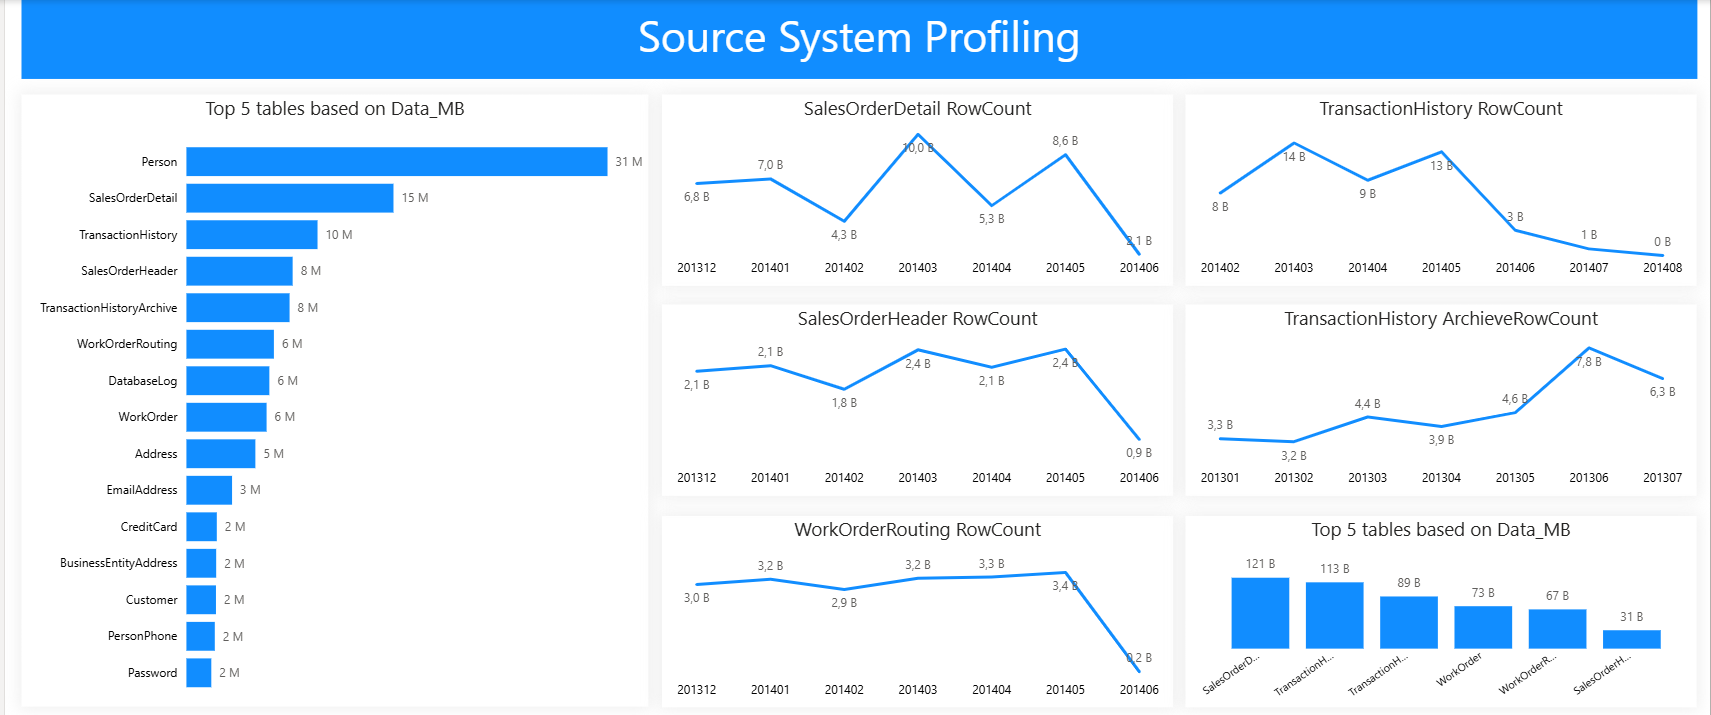

What the dashboard file says about the page in this screenshot:
{"tool":"powerbi","page":{"name":"Source System Profiling","canvas":[1700,720],"ordinal":0},"visuals":[{"type":"barChart","title":"Top 5 tables based on Data_MB","fields":{"Category":["DataMb.TableName"],"Y":["Sum(DataMb.Data_MB)"]},"box":[16.8,94.4,624.9,610.2],"z":0},{"type":"lineChart","title":"SalesOrderDetail RowCount","fields":{"Y":["RowCountGrowth.Total Row Count"],"Category":["RowCountGrowth.YearMonth"]},"box":[654.3,94.4,509.6,190.8],"z":1000},{"type":"textbox","box":[17,0,1669.7,78.6],"z":1001},{"type":"lineChart","title":"TransactionHistory RowCount","fields":{"Category":["RowCountGrowth.YearMonth"],"Y":["Sum(RowCountGrowth.Row_Count)"]},"box":[1176.5,94.4,509.6,190.8],"z":1002},{"type":"lineChart","title":"WorkOrderRouting RowCount","fields":{"Category":["RowCountGrowth.YearMonth"],"Y":["Sum(RowCountGrowth.Row_Count)"]},"box":[654.3,513.8,509.6,190.8],"z":1003},{"type":"lineChart","title":"SalesOrderHeader RowCount","fields":{"Category":["RowCountGrowth.YearMonth"],"Y":["Sum(RowCountGrowth.Row_Count)"]},"box":[654.3,304.1,509.6,190.8],"z":1004},{"type":"lineChart","title":"TransactionHistory ArchieveRowCount","fields":{"Category":["RowCountGrowth.YearMonth"],"Y":["Sum(RowCountGrowth.Row_Count)"]},"box":[1176.5,304.1,509.6,190.8],"z":1005},{"type":"columnChart","title":"Top 5 tables based on Data_MB","fields":{"Category":["RowCountGrowth.TableName"],"Y":["Sum(RowCountGrowth.Row_Count)"]},"box":[1176.5,513.8,509.6,190.8],"z":1006}]}

Visuals, with their boxes in screenshot pixels (x1, y1, x2, y2), scaled from the page's 1700x720 canvas onto the 1711x715 screenshot:
"Top 5 tables based on Data_MB" barChart: select_region(17, 94, 646, 700)
"SalesOrderDetail RowCount" lineChart: select_region(659, 94, 1171, 283)
textbox: select_region(17, 0, 1698, 78)
"TransactionHistory RowCount" lineChart: select_region(1184, 94, 1697, 283)
"WorkOrderRouting RowCount" lineChart: select_region(659, 510, 1171, 700)
"SalesOrderHeader RowCount" lineChart: select_region(659, 302, 1171, 491)
"TransactionHistory ArchieveRowCount" lineChart: select_region(1184, 302, 1697, 491)
"Top 5 tables based on Data_MB" columnChart: select_region(1184, 510, 1697, 700)
